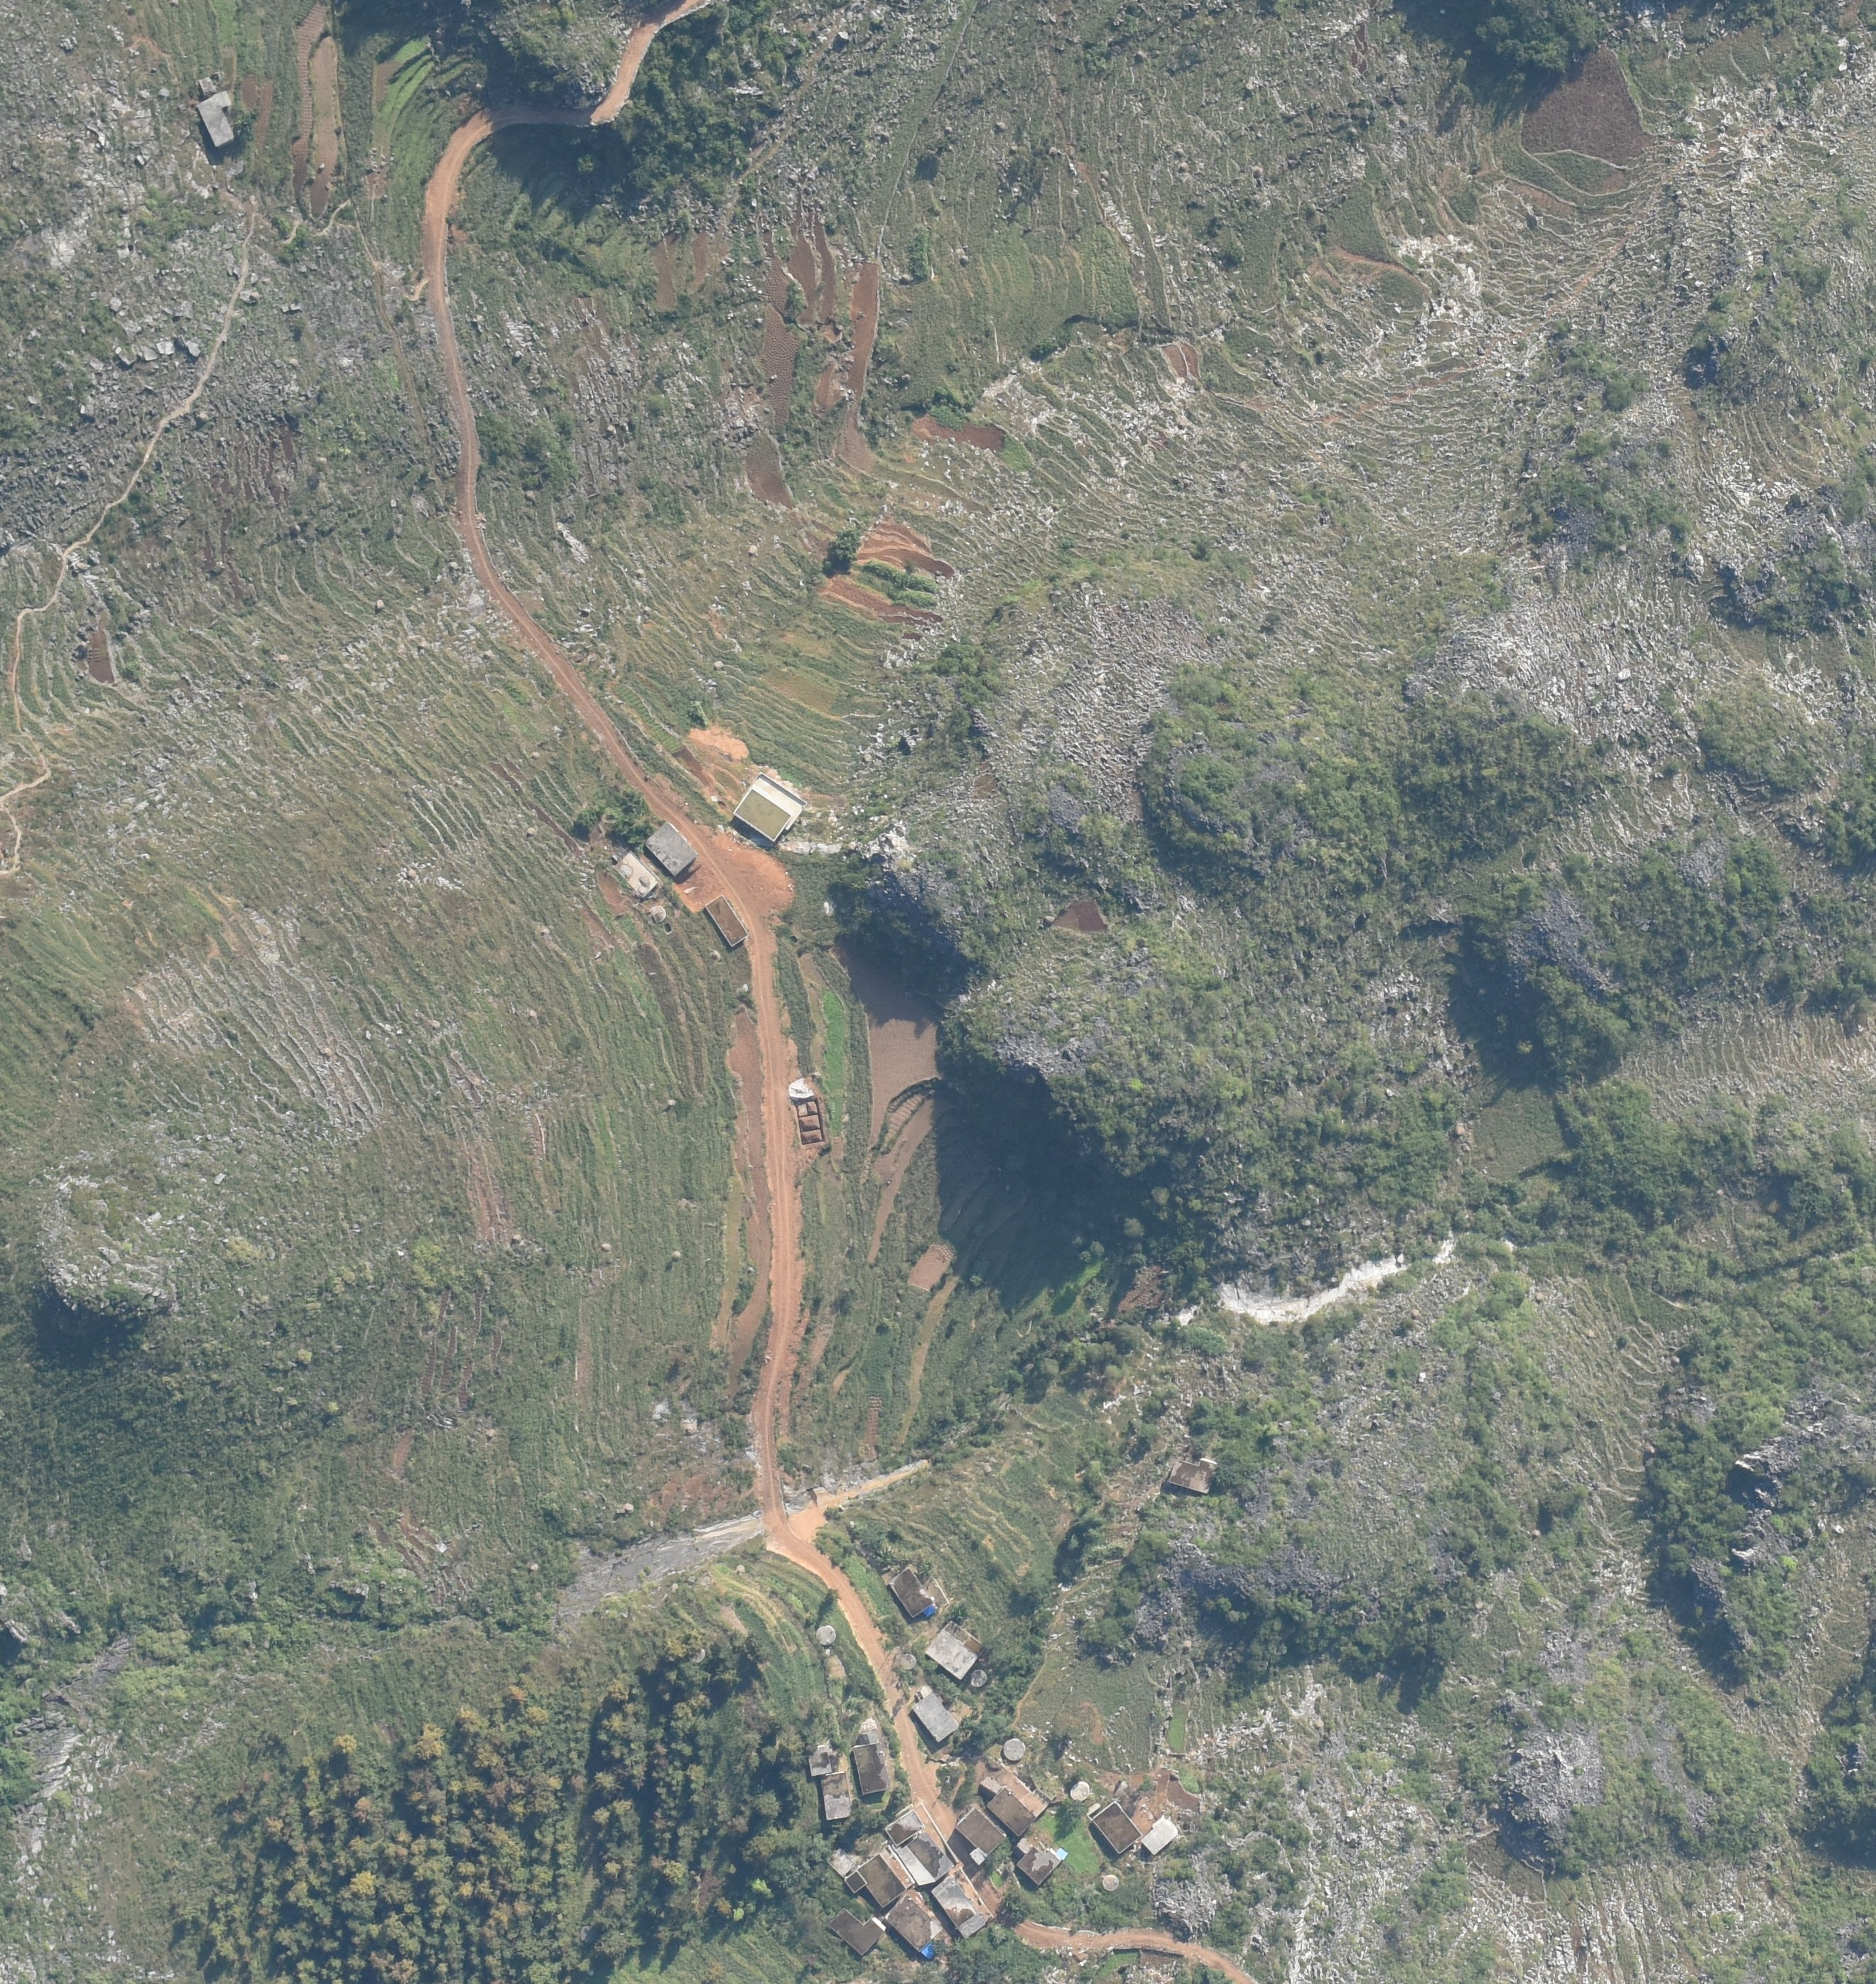building: (730, 774, 810, 845), (885, 1894, 942, 1962), (980, 1777, 1037, 1838), (931, 1877, 986, 1941), (926, 1621, 985, 1679), (197, 74, 241, 148), (845, 1855, 904, 1910), (897, 1831, 954, 1886), (955, 1809, 1004, 1867), (828, 1909, 886, 1958), (645, 824, 697, 879), (1091, 1801, 1141, 1856), (890, 1567, 938, 1620), (1011, 1838, 1066, 1884), (913, 1690, 961, 1742), (703, 894, 747, 947), (854, 1727, 887, 1793), (615, 852, 659, 899), (1167, 1457, 1218, 1493), (1143, 1814, 1181, 1855), (819, 1771, 850, 1819), (885, 1808, 924, 1846), (807, 1741, 830, 1776), (828, 1848, 853, 1877)
prefabricated-house: (920, 1942, 938, 1961)
well: (1003, 1738, 1026, 1762), (1069, 1779, 1090, 1803), (818, 1625, 836, 1647), (1102, 1874, 1120, 1893), (969, 1669, 987, 1688), (899, 1653, 915, 1672)
